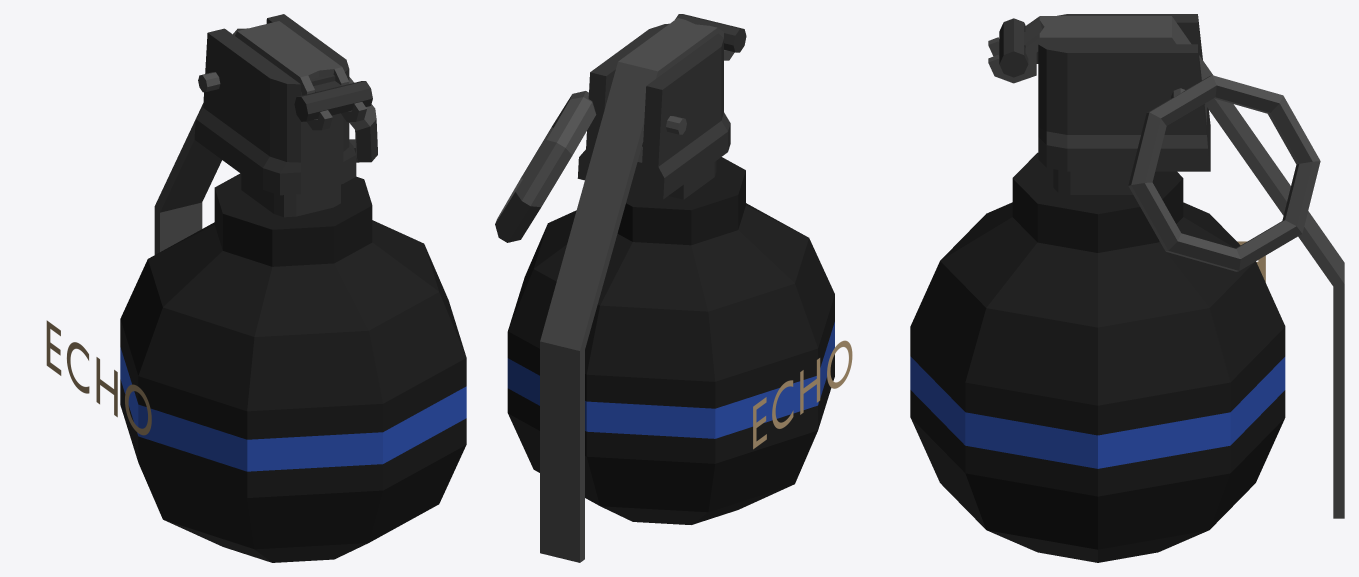
Rendered from Grenade_M67_Echo.glb.
3 renders of one model, left to right at view 1: azimuth 30°, elevation 25°; view 2: azimuth 150°, elevation 25°; view 3: azimuth 270°, elevation 25°, orthographic. The views are drawn at different scales.
Parts seen in each view (by area): view 1: Grenade_M67_Echo_Body, Grenade_M67_Echo_EchoMark; view 2: Grenade_M67_Echo_Body, Grenade_M67_Echo_EchoMark; view 3: Grenade_M67_Echo_Body.
Part boxes in pixels (x1,y1,x2,y2): Grenade_M67_Echo_Body: (120, 14, 466, 562); Grenade_M67_Echo_EchoMark: (46, 320, 151, 435); Grenade_M67_Echo_Body: (495, 14, 834, 562); Grenade_M67_Echo_EchoMark: (753, 340, 852, 449); Grenade_M67_Echo_Body: (910, 14, 1344, 562).
Size of the model in its own units: 0.0705 by 0.1 by 0.0787.
5 materials, 1 textured.
